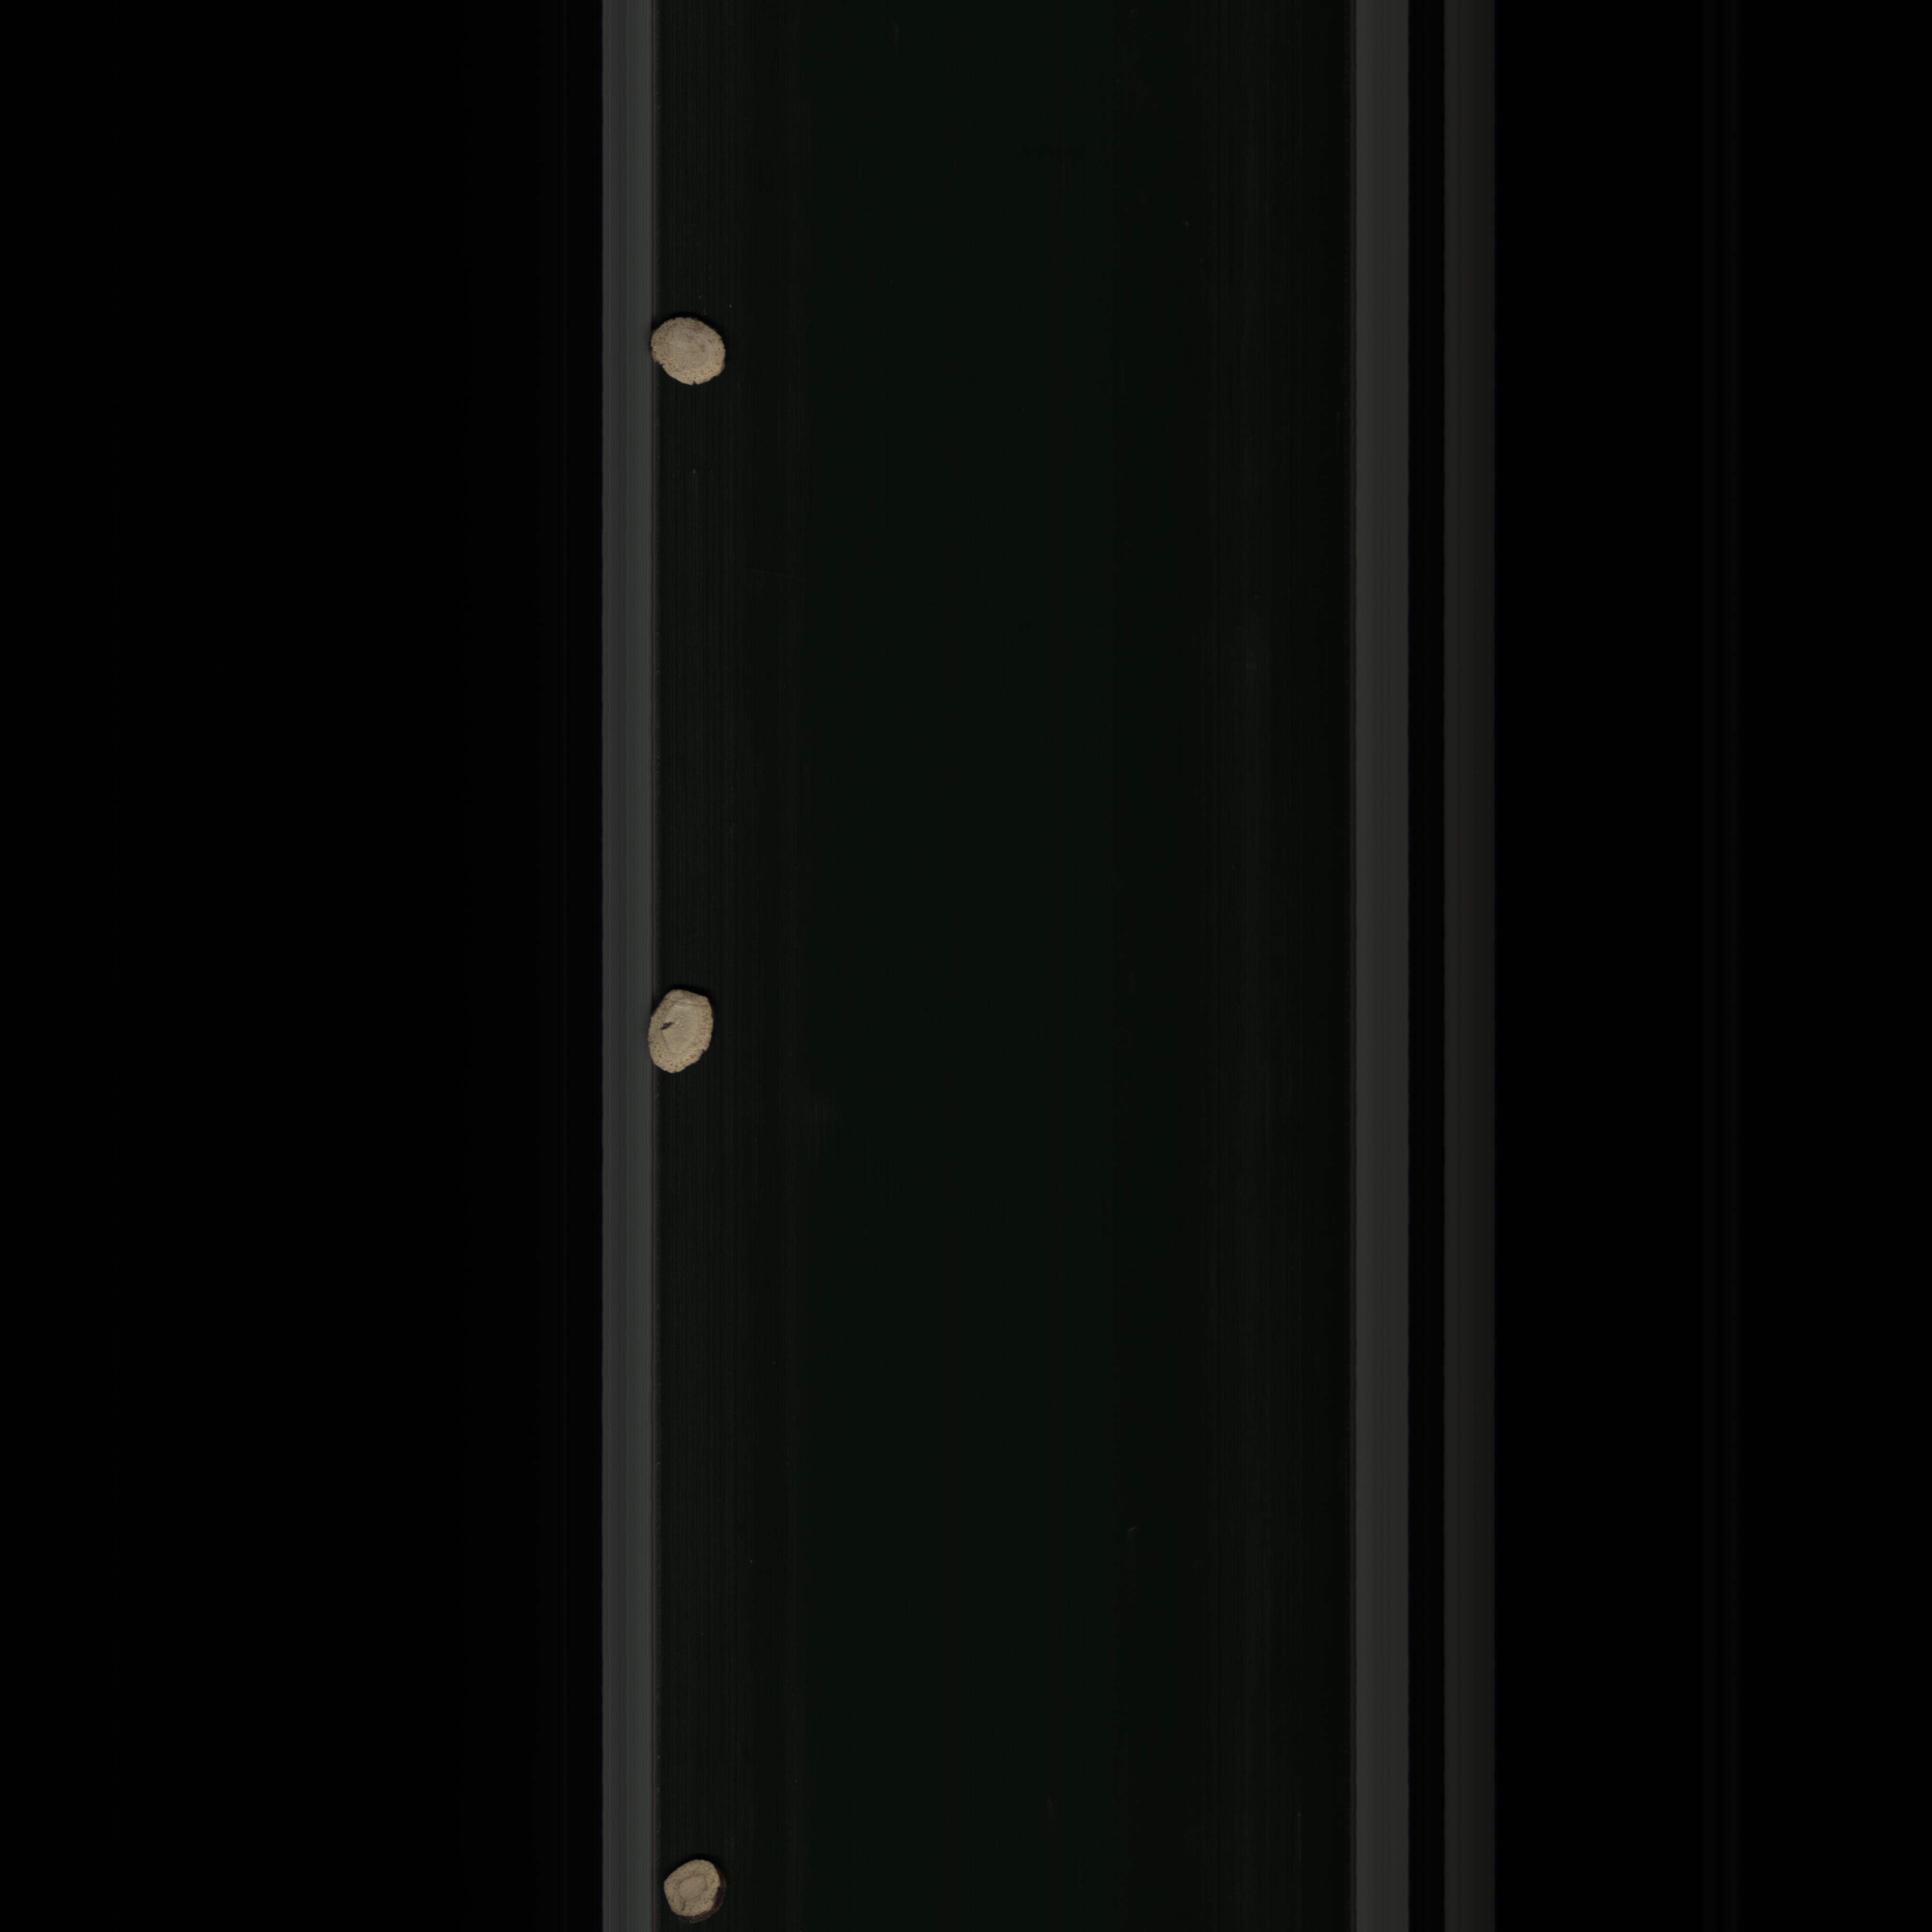hole: (635, 977, 727, 1081)
